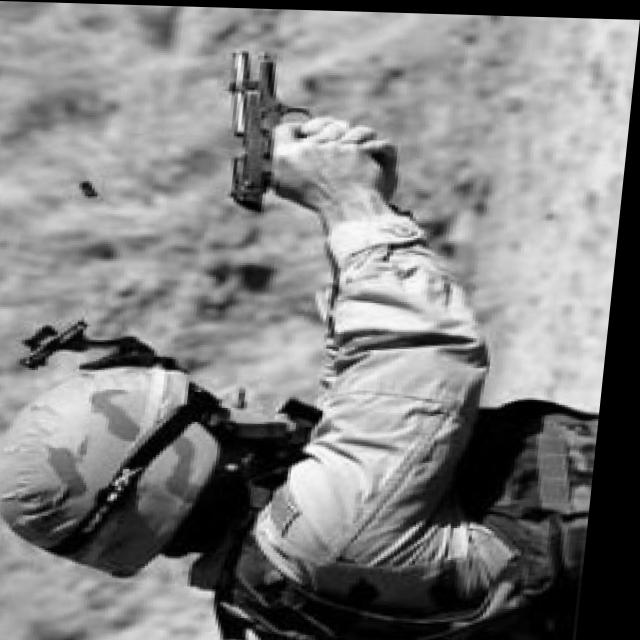handgun: (210, 48, 323, 225)
